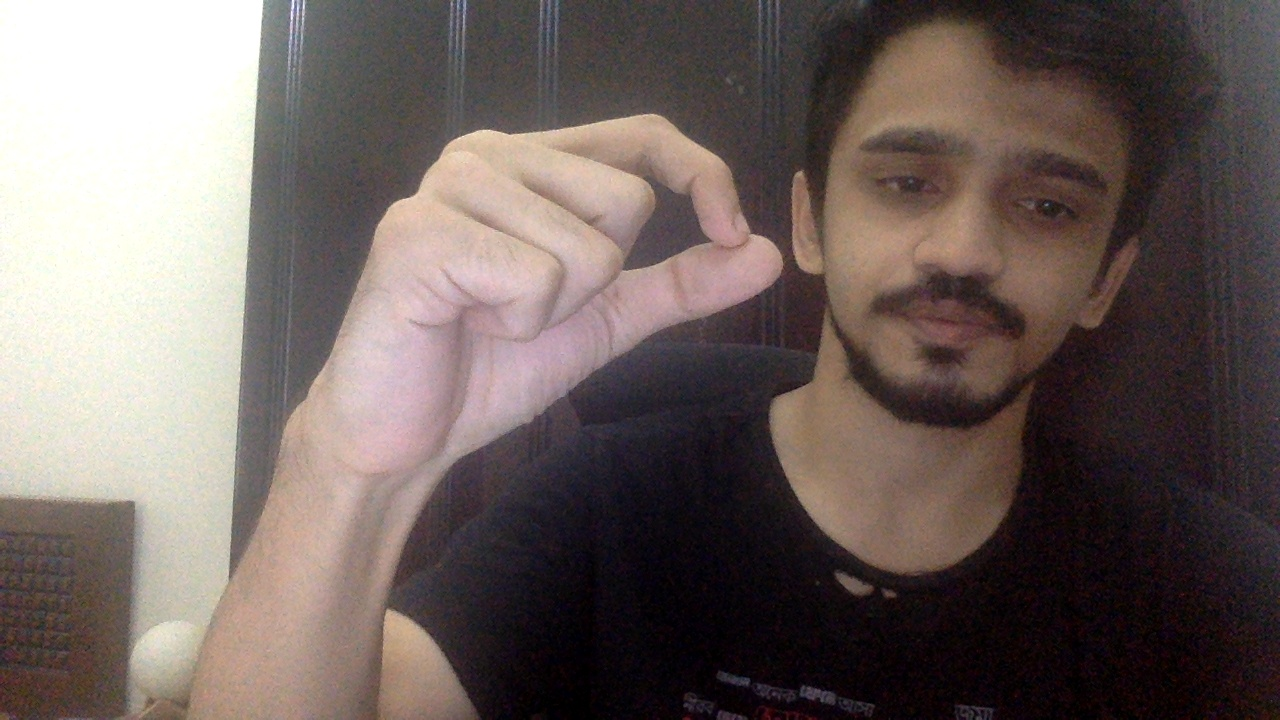zero: (291, 111, 783, 481)
